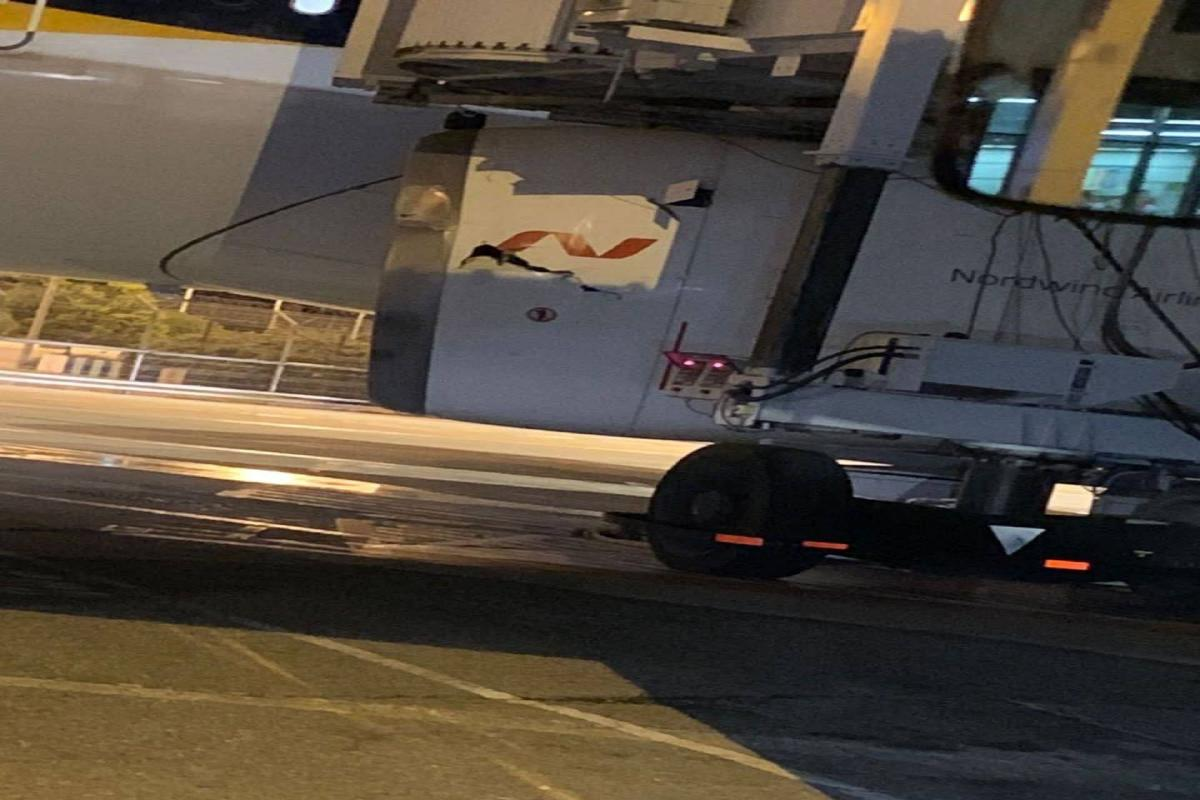Fuselage_damage: (461, 245, 617, 296), (461, 244, 572, 277)
